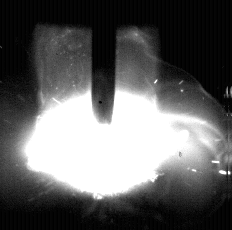arame: (93, 0, 116, 125)
poca: (25, 0, 179, 230)
